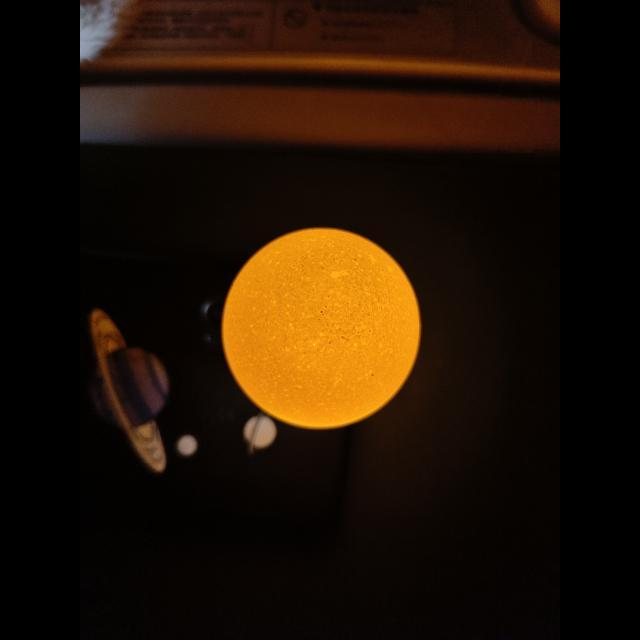AA - Premium: (221, 228, 421, 429)
